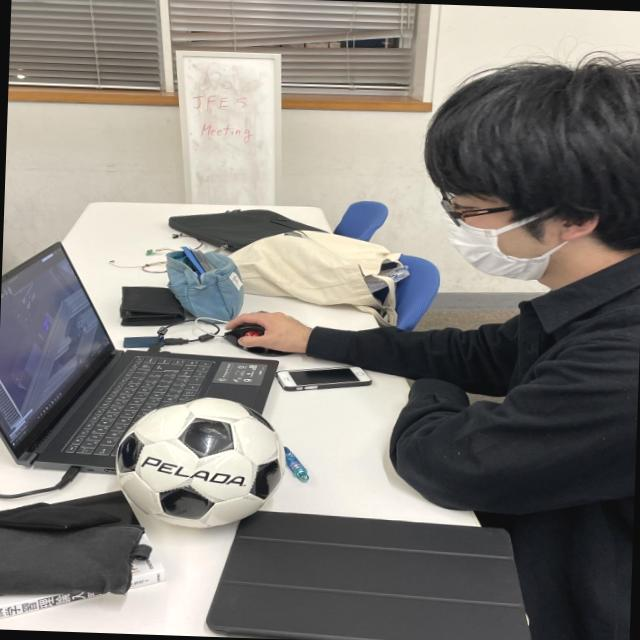Soccer Ball: (112, 391, 286, 532)
